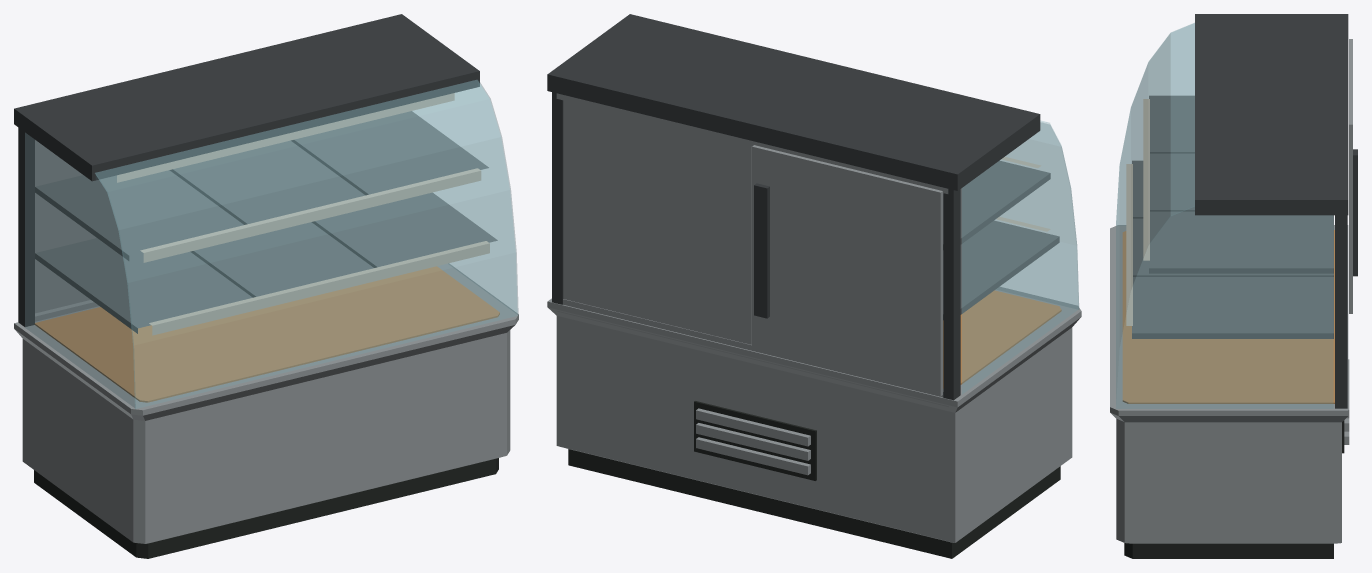
File: pastry-display-case-8bcce5.glb
3 renders of one model, left to right at view 1: azimuth 30°, elevation 25°; view 2: azimuth 150°, elevation 25°; view 3: azimuth 270°, elevation 25°, orthographic. The views are drawn at different scales.
Visible parts, largest first — view 1: pastry-display-case, case-glass, shelves, rear-panel; view 2: pastry-display-case, rear-panel, case-glass, shelves; view 3: pastry-display-case, case-glass, shelves, rear-panel.
Part boxes in pixels (x1,y1,x2,y2): pastry-display-case: (14, 14, 518, 558); case-glass: (25, 80, 518, 408); shelves: (35, 111, 497, 335); rear-panel: (35, 140, 96, 313); pastry-display-case: (547, 14, 1081, 558); rear-panel: (752, 145, 942, 396); case-glass: (962, 120, 1079, 394); shelves: (943, 157, 1059, 319); pastry-display-case: (1110, 14, 1349, 558); case-glass: (1116, 23, 1333, 408); shelves: (1126, 95, 1333, 338); rear-panel: (1349, 39, 1357, 313).
Bounding box in the file's own units: 1.55 × 1.42 × 0.874.
